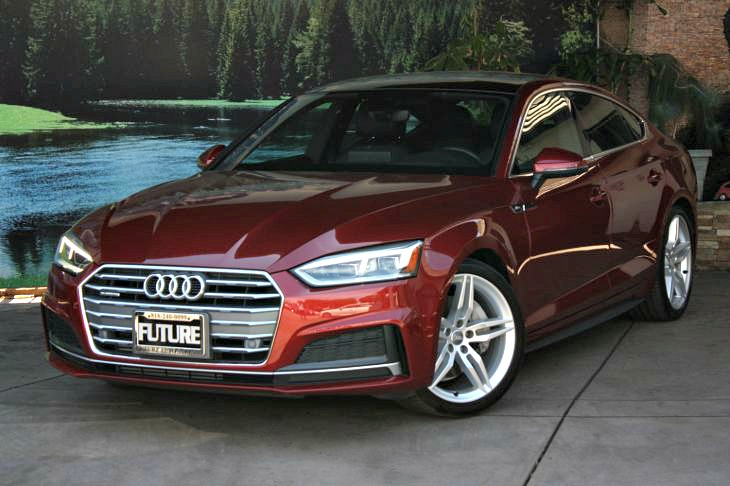audi: (138, 268, 209, 305)
